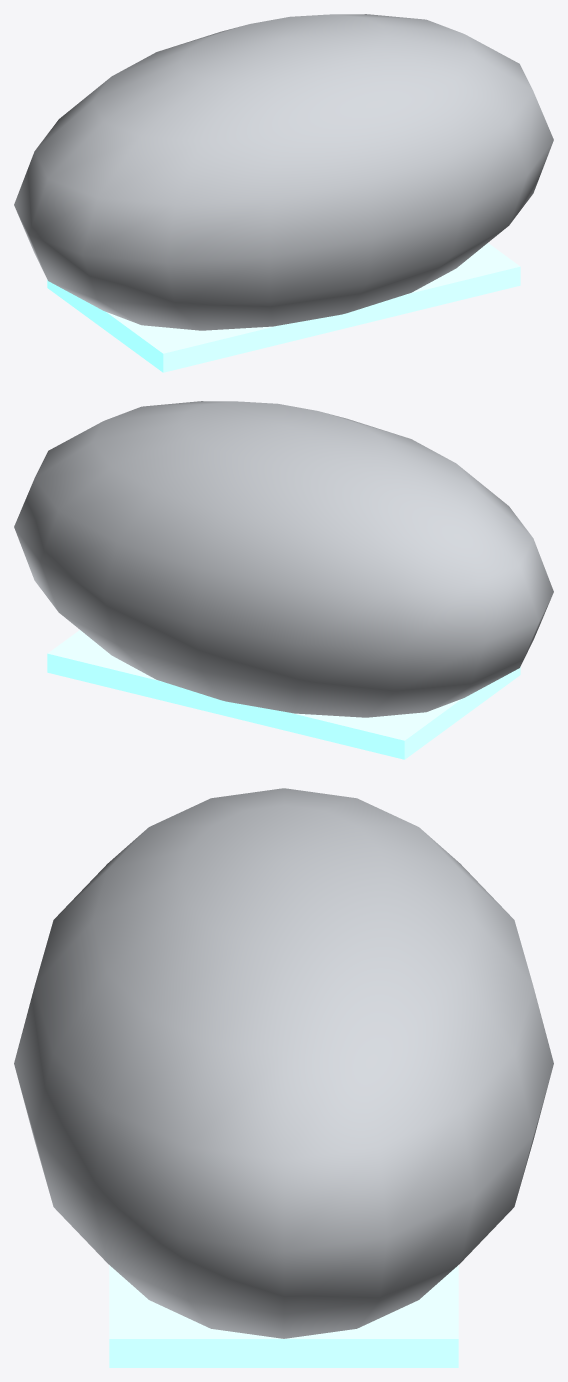
File: car_2034.glb
3 views of the same model, one above another, from view 1: azimuth 30°, elevation 25°; view 2: azimuth 150°, elevation 25°; view 3: azimuth 270°, elevation 25° (orthographic). The views are drawn at different scales.
Parts seen in each view (by area): view 1: Pod, Glow; view 2: Pod, Glow; view 3: Pod, Glow.
Boxes of the visible parts, left/top/right/bottom form: Pod: left=14, top=14, right=553, bottom=330; Glow: left=47, top=243, right=520, bottom=372; Pod: left=14, top=401, right=553, bottom=717; Glow: left=47, top=630, right=520, bottom=759; Pod: left=14, top=788, right=553, bottom=1338; Glow: left=109, top=1265, right=458, bottom=1367.
Bounding box in the file's own units: 0.28 × 0.14 × 0.17.
